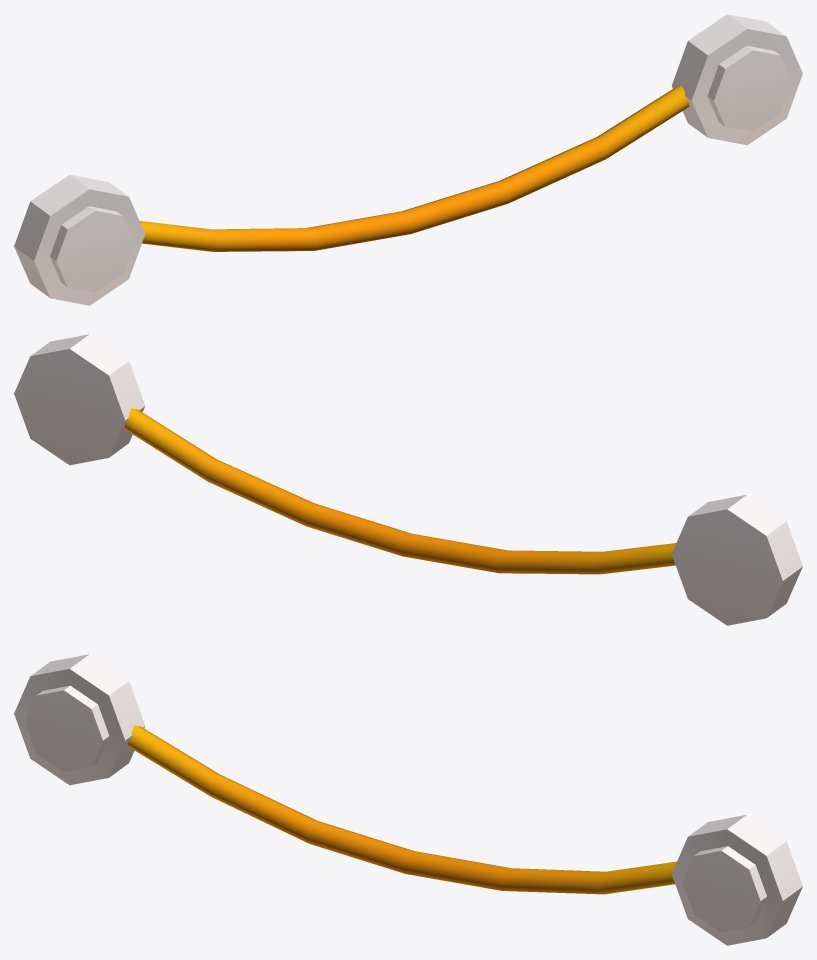
The picture shows the model from 3 angles, top to bottom: view 1: azimuth 30°, elevation 25°; view 2: azimuth 150°, elevation 25°; view 3: azimuth 330°, elevation 25°; orthographic projection.
Parts seen in each view (by area): view 1: lv3; view 2: lv3; view 3: lv3.
Boxes of the visible parts, bbox=[...] form: lv3: bbox=[14, 14, 802, 305]; lv3: bbox=[14, 334, 802, 625]; lv3: bbox=[14, 654, 802, 945].
Bounding box in the file's own units: 29.49 × 4.89 × 1.71.
1 material, 1 textured.
